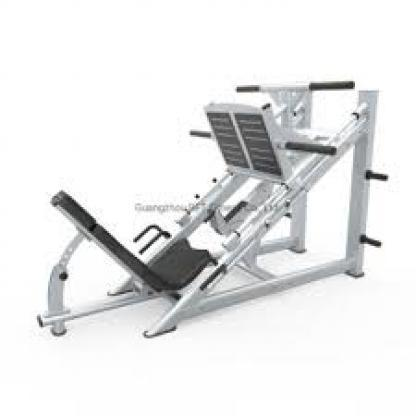leg press: (29, 48, 393, 370)
